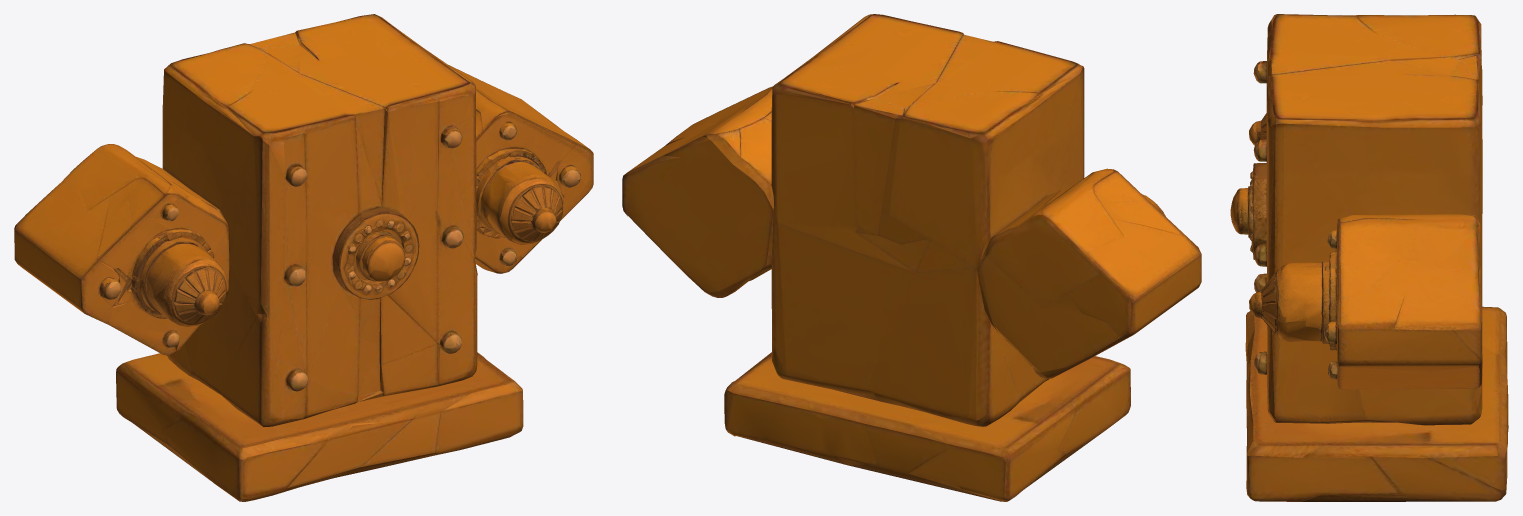
Rendered from bolt.glb.
3 renders of one model, left to right at view 1: azimuth 30°, elevation 25°; view 2: azimuth 150°, elevation 25°; view 3: azimuth 270°, elevation 25°, orthographic. The views are drawn at different scales.
Visible parts, largest first — view 1: mesh_node; view 2: mesh_node; view 3: mesh_node.
Part boxes in pixels (bbox=[...]): mesh_node: bbox=[14, 14, 593, 501]; mesh_node: bbox=[622, 14, 1201, 501]; mesh_node: bbox=[1230, 14, 1508, 501].
Size of the model in its own units: 1.9 by 1.26 by 0.8618.
1 material, 1 textured.
